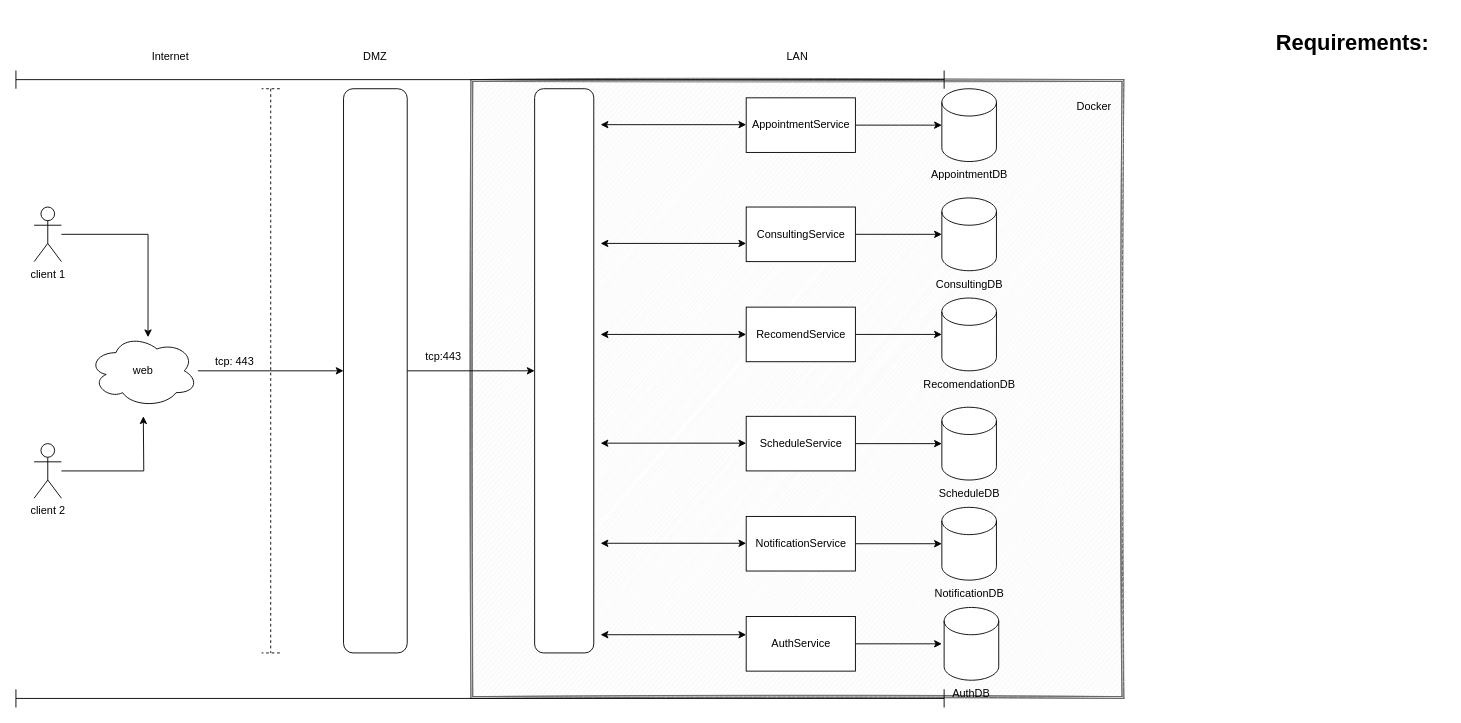
Image size: 1461x723. Some labels were removed from this diagram. Each missing label, with the centre of its shape:
API Gateway: pixel 375 370
Service Bus: pixel 564 370
